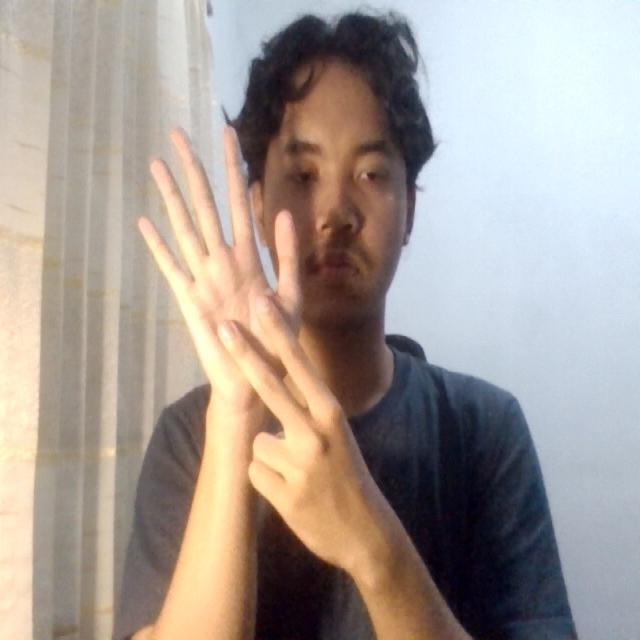IloveYou: (123, 111, 367, 538)
